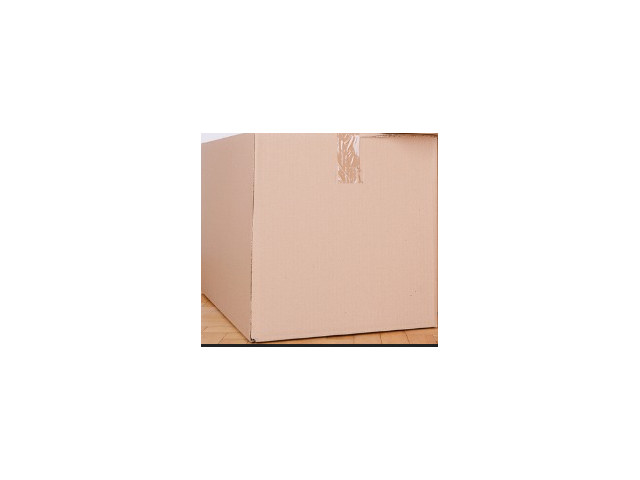cardboard: (201, 134, 432, 339)
